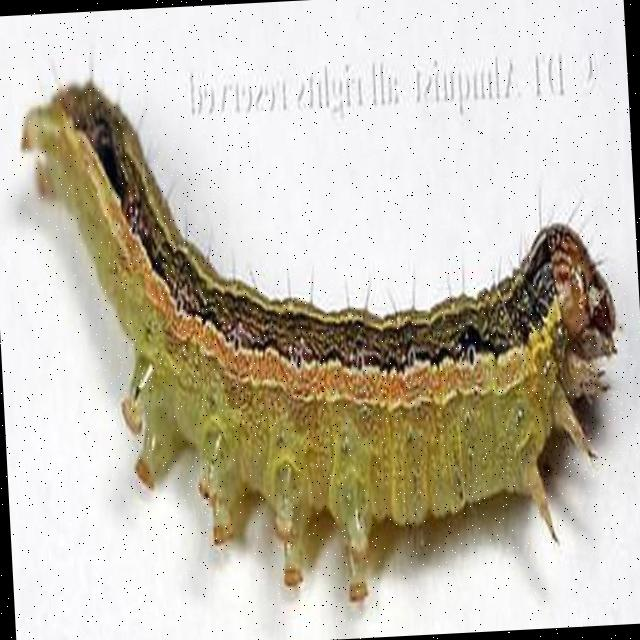worm: (17, 42, 634, 621)
